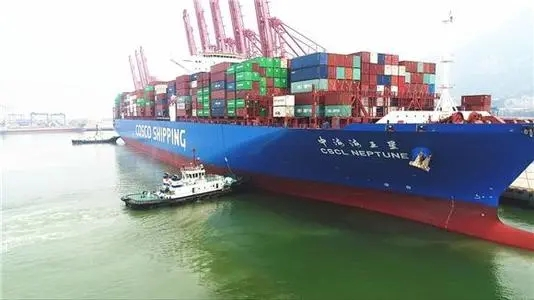Cargoship: (112, 1, 530, 248)
otherboat: (115, 153, 239, 211), (69, 125, 120, 146)
